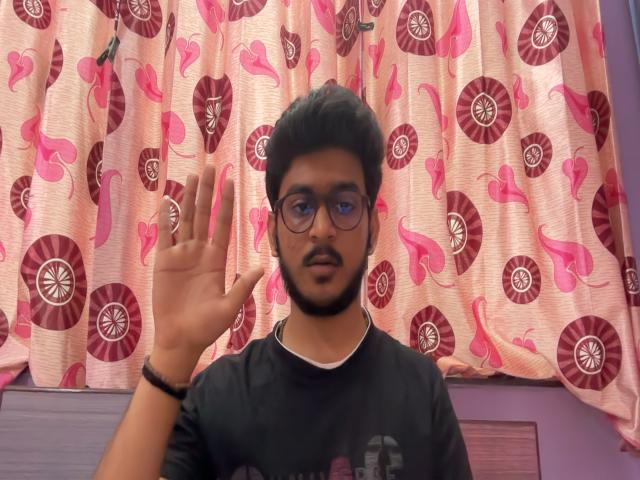Hello: (148, 154, 266, 352)
